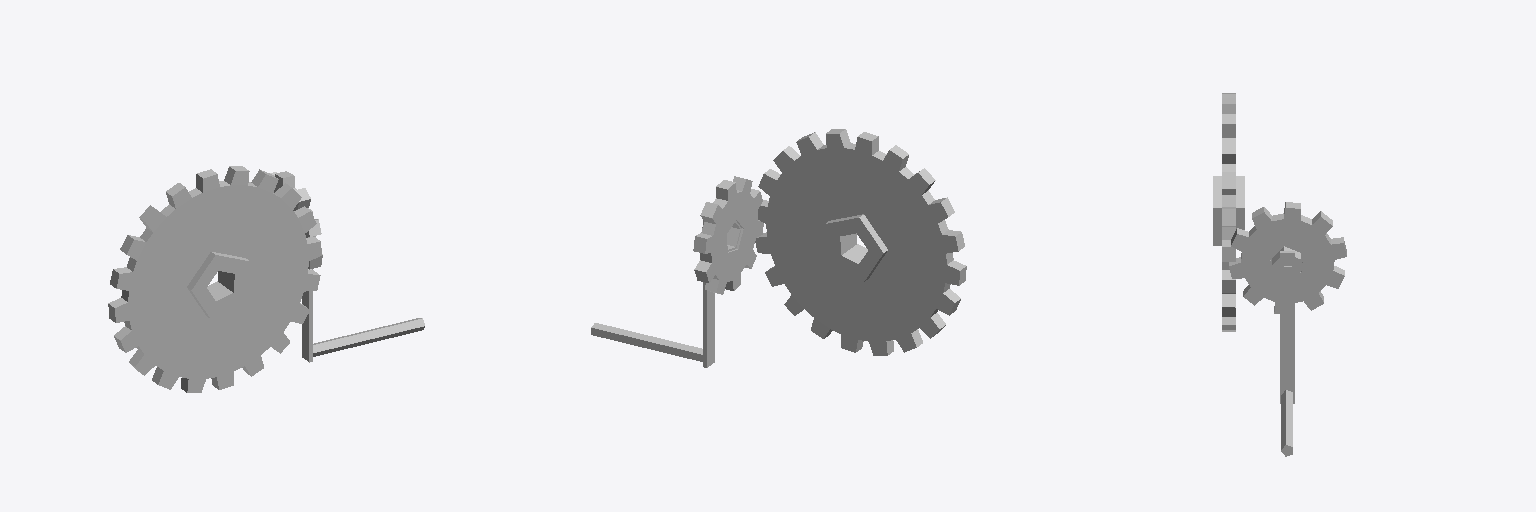
The model's file is Gears_01.obj.
3 views of the same model, side by side, from view 1: azimuth 30°, elevation 25°; view 2: azimuth 150°, elevation 25°; view 3: azimuth 270°, elevation 25° (orthographic).
Parts seen in each view (by area): view 1: Gears:default1 Gears:polySurface1, Gears:default1 Gears:polySurface7, Gears:default1 Gears:polySurface2, Gears:default1 Gears:polySurface3; view 2: Gears:default1 Gears:polySurface1, Gears:default1 Gears:polySurface2, Gears:default1 Gears:polySurface7, Gears:default1 Gears:polySurface3; view 3: Gears:default1 Gears:polySurface2, Gears:default1 Gears:polySurface1, Gears:default1 Gears:polySurface3, Gears:default1 Gears:polySurface7.
Part boxes in pixels (bbox=[...]): Gears:default1 Gears:polySurface1: bbox=[108, 166, 321, 392]; Gears:default1 Gears:polySurface7: bbox=[313, 318, 424, 356]; Gears:default1 Gears:polySurface2: bbox=[270, 171, 322, 269]; Gears:default1 Gears:polySurface3: bbox=[302, 209, 312, 362]; Gears:default1 Gears:polySurface1: bbox=[755, 129, 966, 355]; Gears:default1 Gears:polySurface2: bbox=[693, 176, 763, 294]; Gears:default1 Gears:polySurface7: bbox=[591, 323, 702, 361]; Gears:default1 Gears:polySurface3: bbox=[703, 220, 714, 367]; Gears:default1 Gears:polySurface2: bbox=[1229, 202, 1346, 313]; Gears:default1 Gears:polySurface1: bbox=[1213, 93, 1244, 331]; Gears:default1 Gears:polySurface3: bbox=[1280, 251, 1294, 403]; Gears:default1 Gears:polySurface7: bbox=[1281, 390, 1292, 456].
Size of the model in its own units: 4.17 by 2.81 by 1.42.